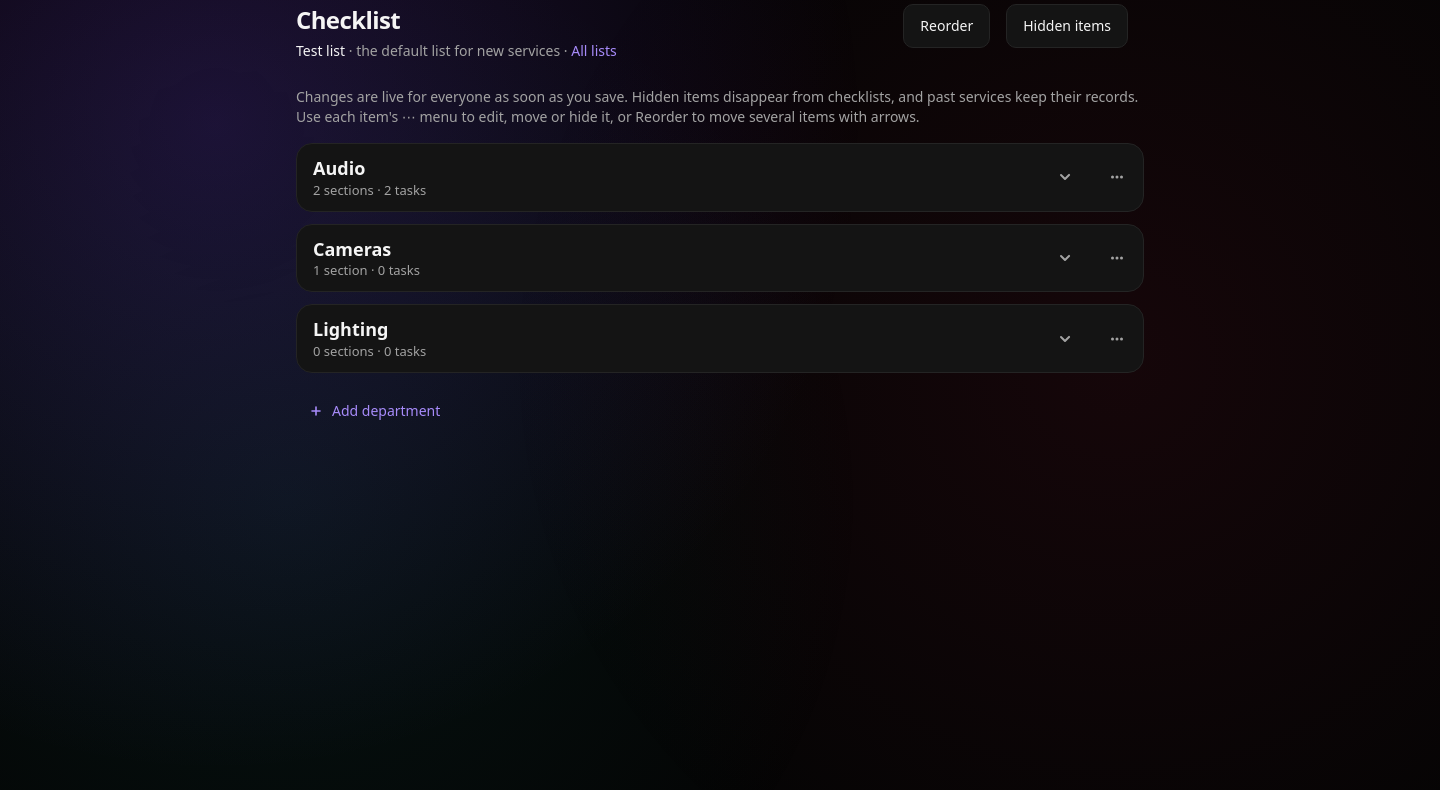
Test: reordering › disables Move up on the first item and Move down on the last
Expected: the text "Audio" is shown, [313,156,365,180]
Click the button "Audio 2 sections · 2 tasks" at point(339, 168), box [297,144,1091,211]
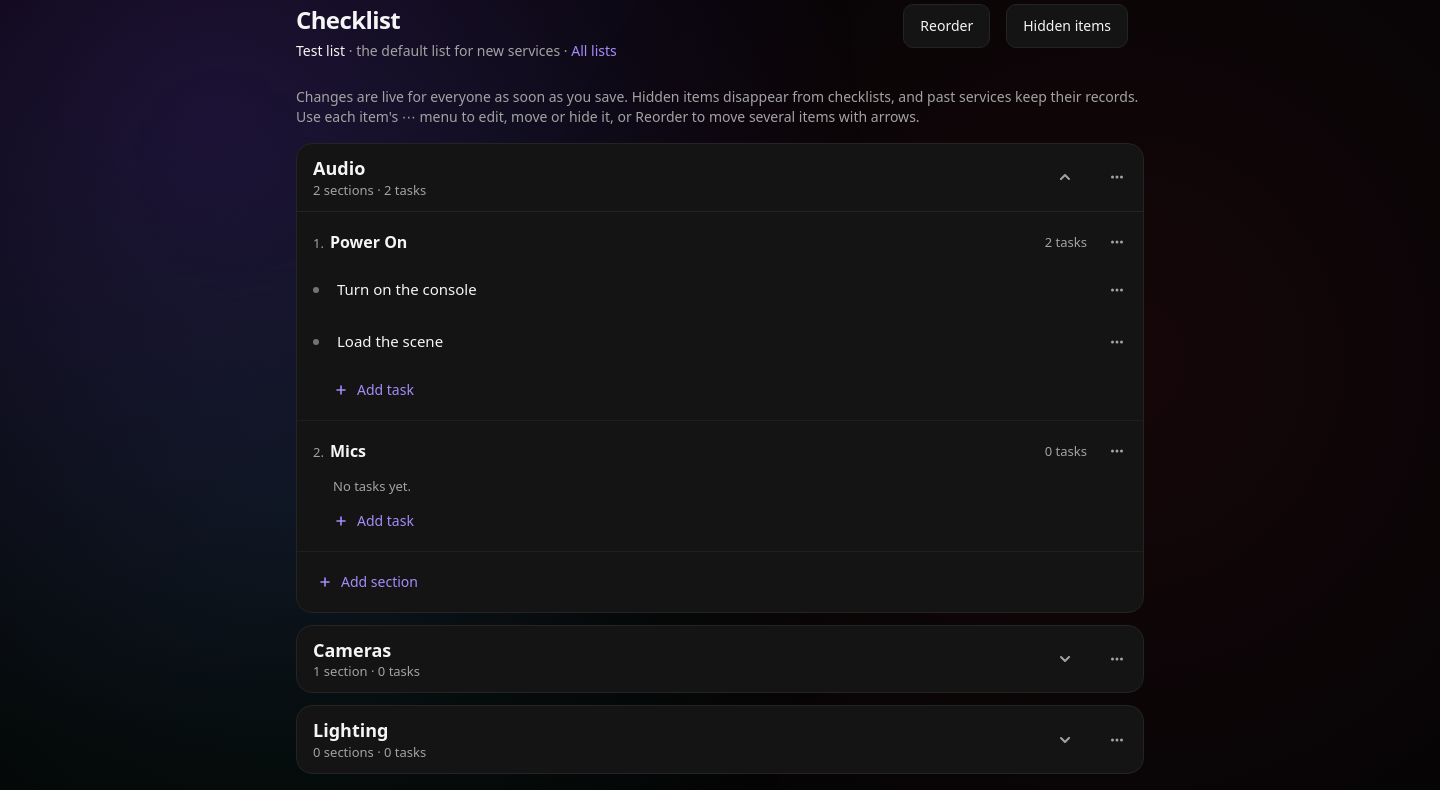
Click the button named "Actions for task: Turn on the console" at point(1117, 290), box [1095,268,1139,312]
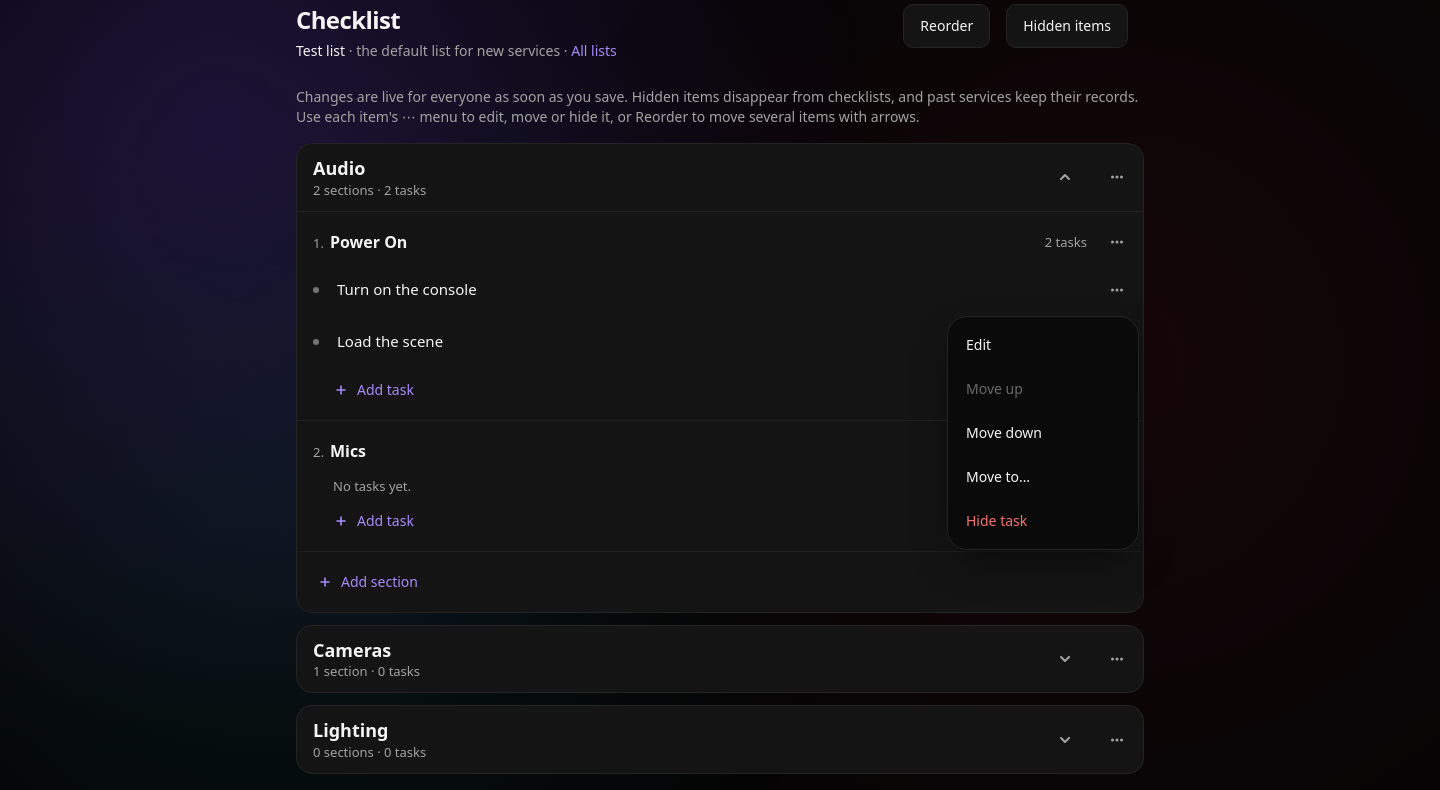
Result: the button "Move up" is disabled at [954,366,1132,410]
Result: the button "Move down" is enabled at [954,410,1132,454]
Click the button named "Actions for task: Turn on the console" at point(1117, 290), box [1095,268,1139,312]
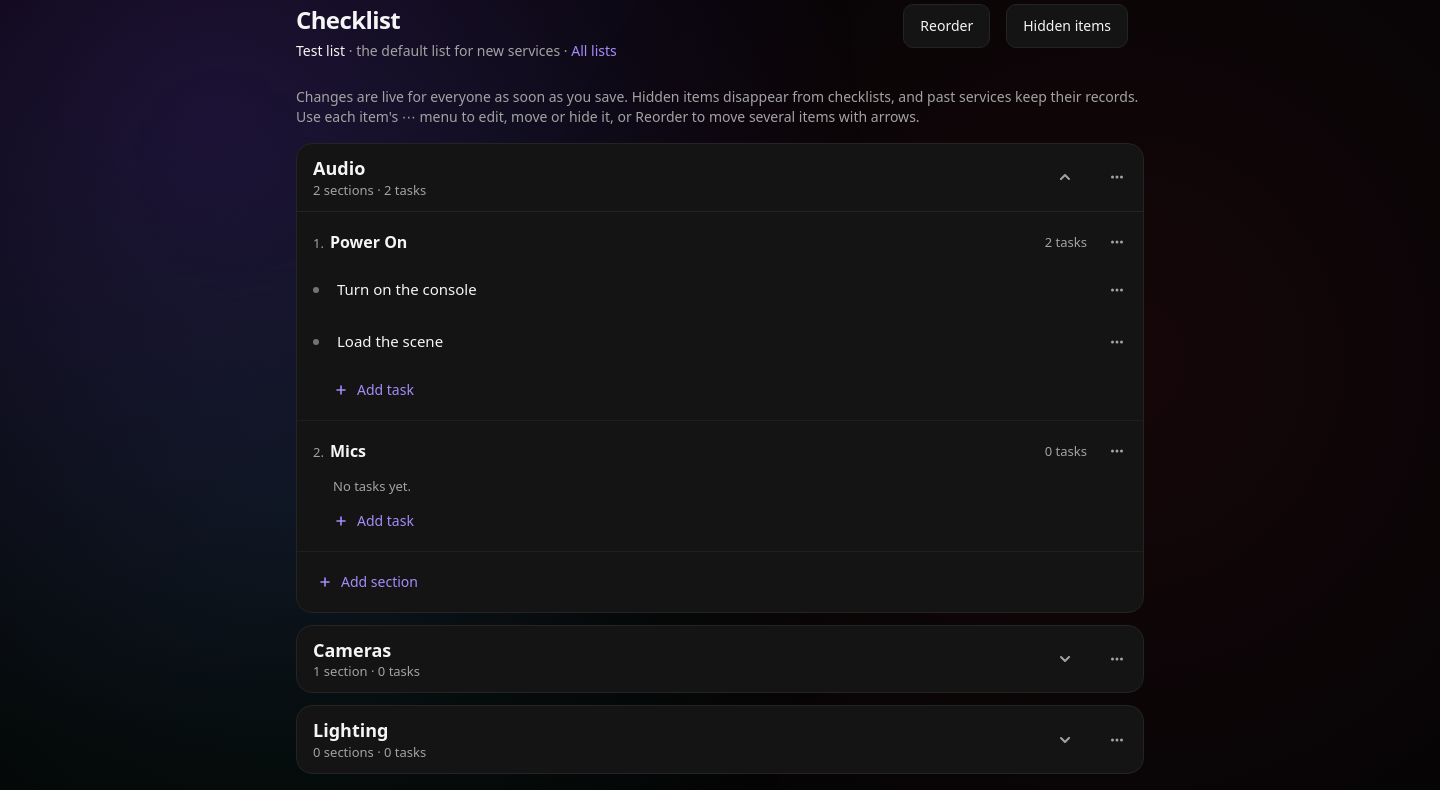
Click the button named "Actions for department: Lighting" at point(1117, 740), box [1095,718,1139,762]
(page scrolled)
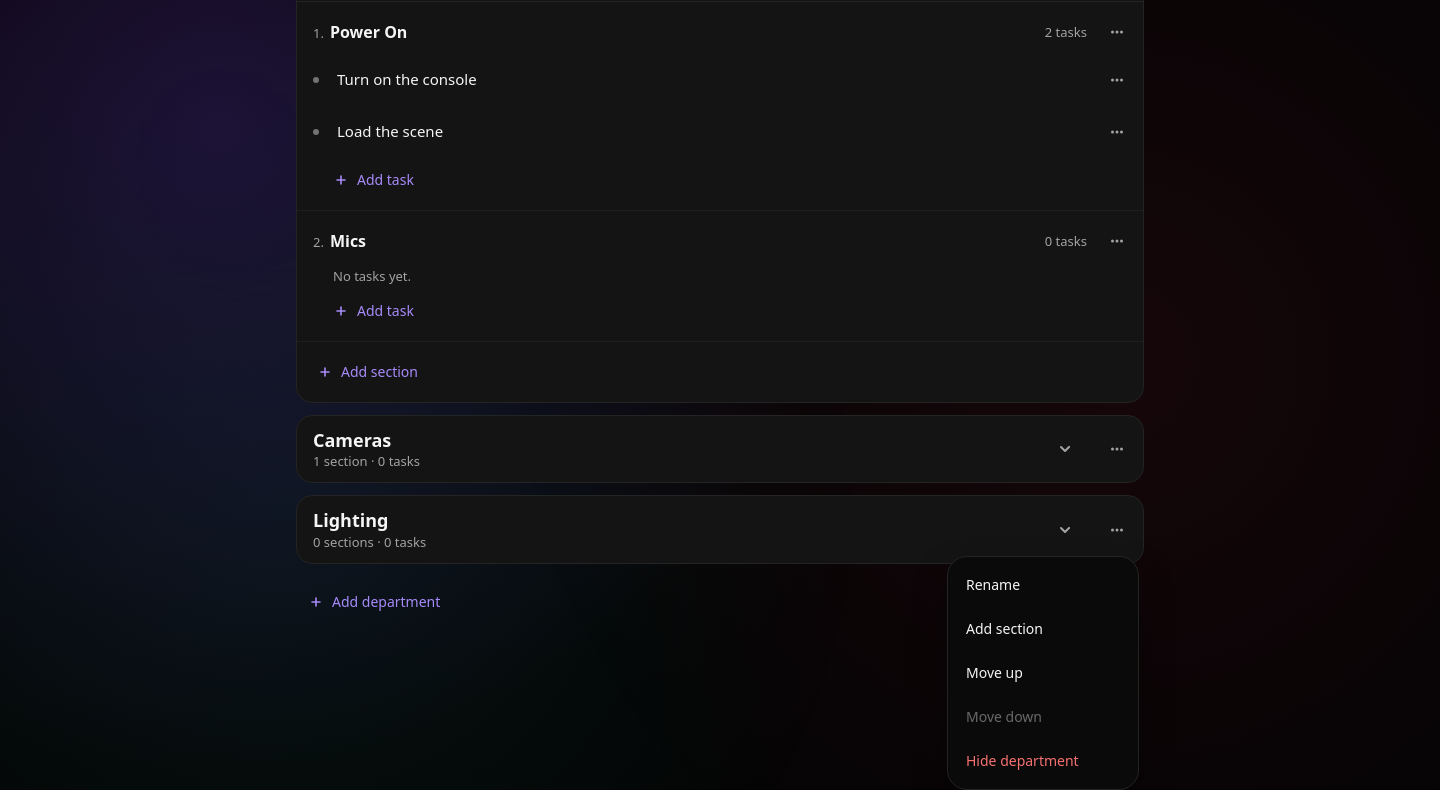
Result: the button "Move down" is disabled at [954,695,1132,739]
